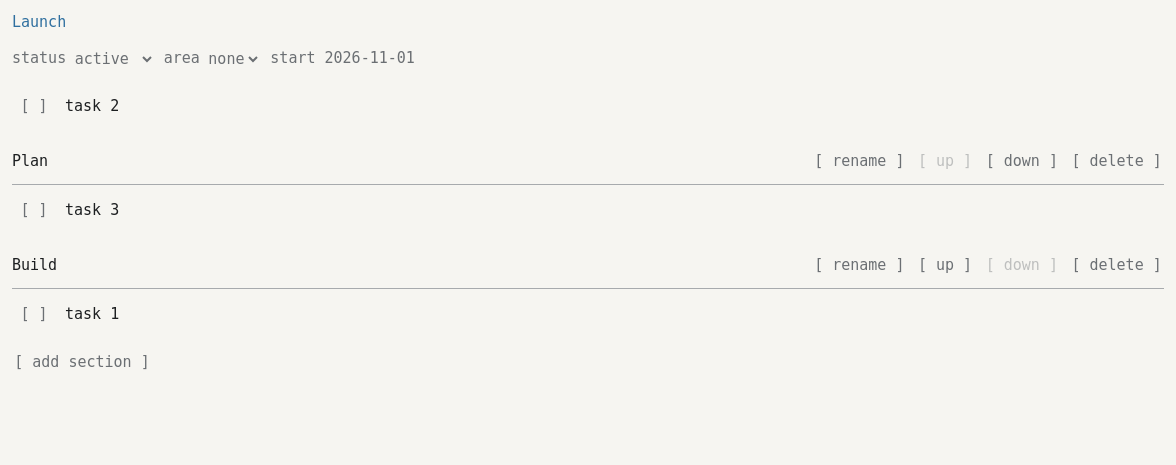
sections › [ add section ] prompts; Enter adds it last and refocuses the button
This screenshot has width=1176, height=465.
Check: the heading "Launch" is shown, box [12, 13, 66, 31]
Click the button "[ add section ]" at (82, 362), box [12, 340, 152, 384]
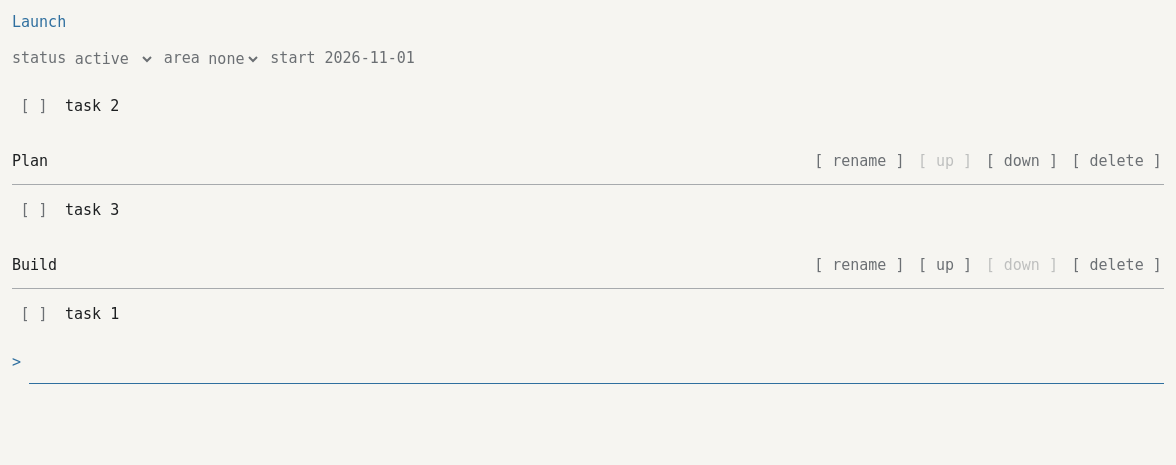
Type "Ship" into the field named "section title" at (596, 362), box [28, 340, 1164, 384]
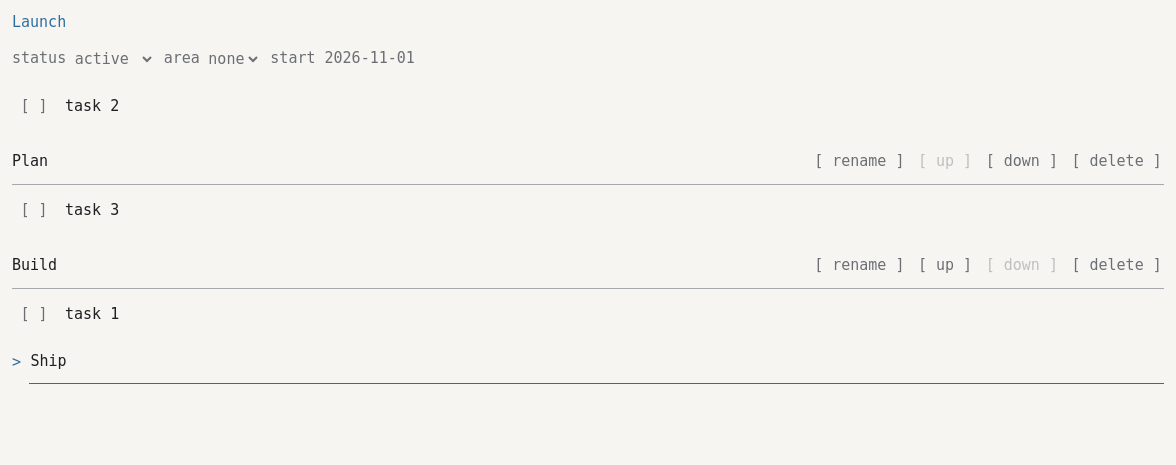
Submit the form from the field named "section title", box [28, 340, 1164, 384]
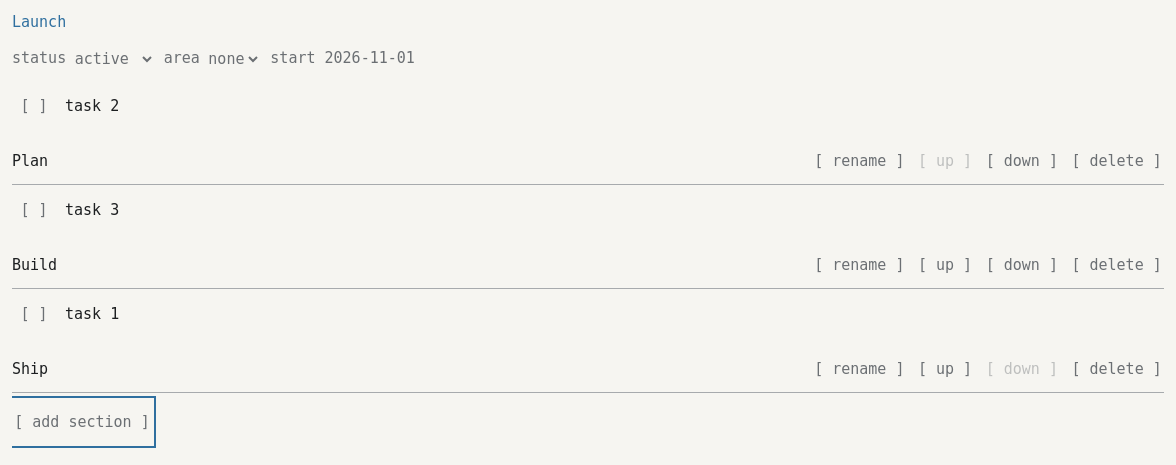
Check: the heading "Ship" is shown, box [12, 360, 48, 378]
